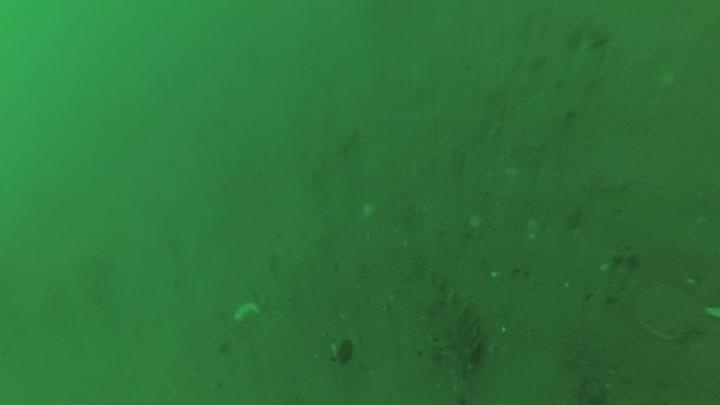holothurian: (401, 259, 486, 373)
scallop: (632, 281, 707, 345)
